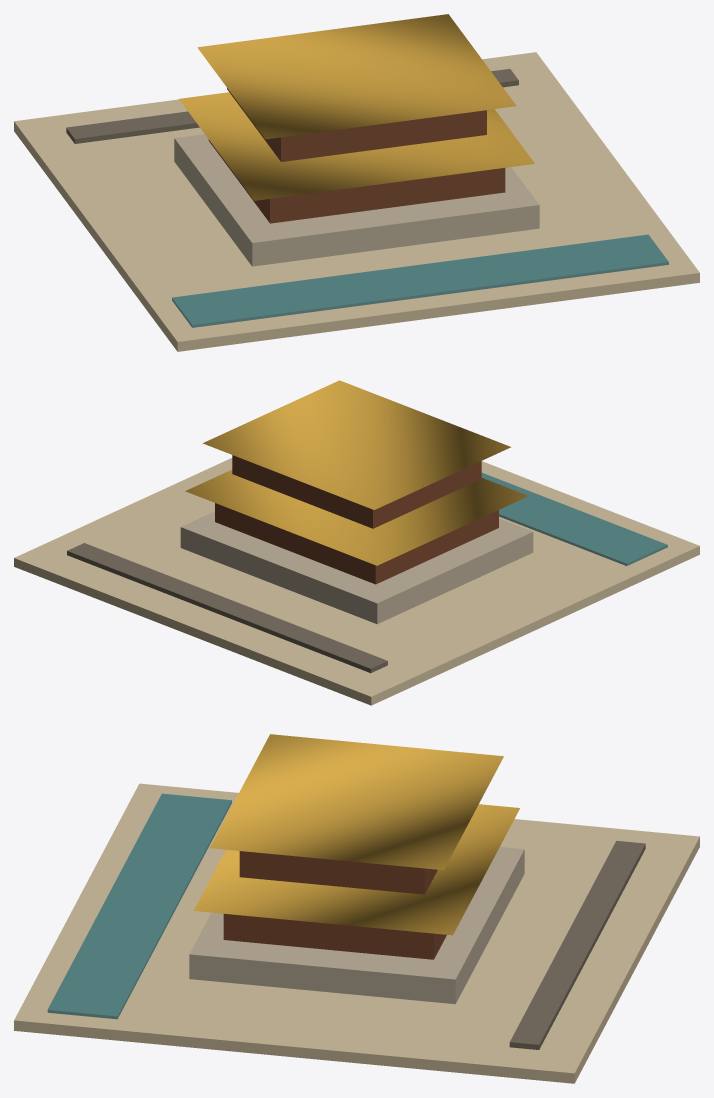
Rendered from model-medium.glb.
3 renders of one model, top to bottom at view 1: azimuth 30°, elevation 25°; view 2: azimuth 150°, elevation 25°; view 3: azimuth 270°, elevation 25°, orthographic. The views are drawn at different scales.
Visible parts, largest first — view 1: context_site_plinth, pavilion_roof_2, pavilion_terrace, context_water_edge, pavilion_roof_1, pavilion_floor_1, pavilion_floor_2, front_scale_strip; view 2: context_site_plinth, pavilion_roof_2, pavilion_terrace, pavilion_roof_1, front_scale_strip, pavilion_floor_1, context_water_edge, pavilion_floor_2; view 3: context_site_plinth, pavilion_roof_2, pavilion_terrace, context_water_edge, pavilion_roof_1, front_scale_strip, pavilion_floor_1, pavilion_floor_2.
Part boxes in pixels (box(x1,y1,x2,y2)): context_site_plinth: box(14, 52, 699, 351); pavilion_roof_2: box(197, 14, 516, 139); pavilion_terrace: box(174, 134, 539, 266); context_water_edge: box(172, 234, 668, 327); pavilion_roof_1: box(179, 92, 534, 200); pavilion_floor_1: box(208, 139, 505, 223); pavilion_floor_2: box(227, 88, 486, 161); front_scale_strip: box(66, 69, 518, 143); context_site_plinth: box(14, 458, 699, 705); pavilion_roof_2: box(202, 380, 511, 509); pavilion_terrace: box(180, 511, 533, 624); pavilion_roof_1: box(185, 470, 528, 565); front_scale_strip: box(67, 543, 387, 673); pavilion_floor_1: box(215, 503, 498, 584); context_water_edge: box(481, 472, 667, 565); pavilion_floor_2: box(232, 455, 481, 528); context_site_plinth: box(14, 783, 699, 1083); pavilion_roof_2: box(210, 734, 503, 870); pavilion_terrace: box(189, 847, 524, 1004); context_water_edge: box(47, 793, 231, 1019); pavilion_roof_1: box(194, 804, 519, 935); front_scale_strip: box(509, 840, 645, 1049); pavilion_floor_1: box(223, 913, 446, 959); pavilion_floor_2: box(239, 851, 437, 894).
Bounding box in the file's own units: 9.55 × 2.62 × 9.55.
